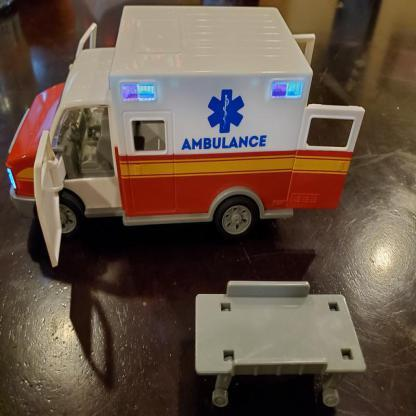Ambulance - v1 Ambulance last generate: (0, 6, 310, 235)
